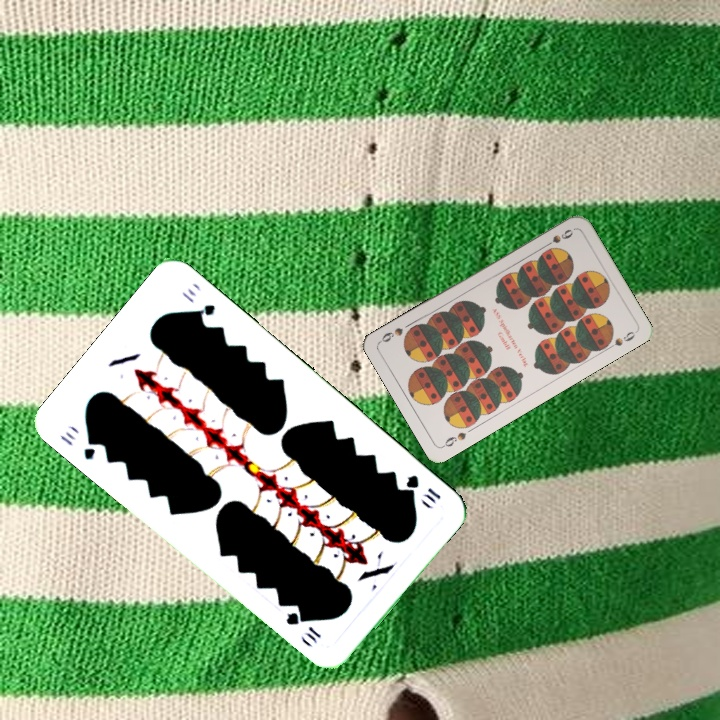G10: (55, 427, 101, 463), (401, 471, 444, 505)
S9: (539, 225, 575, 251), (439, 428, 469, 450)
